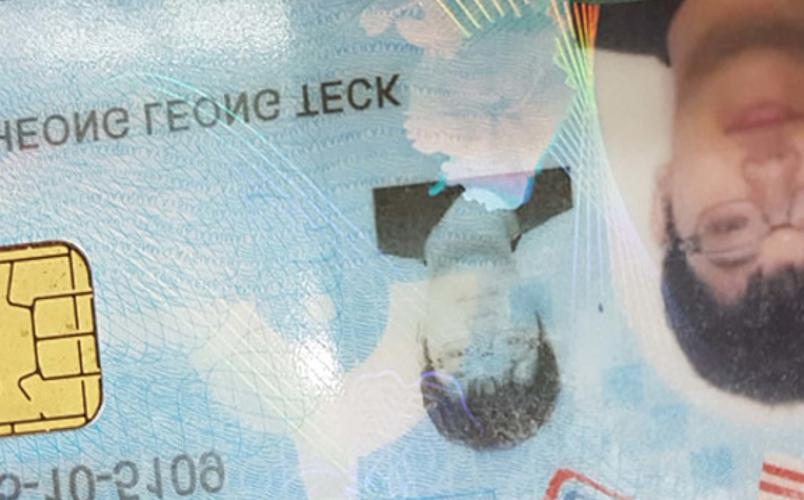hologramB: (408, 3, 591, 167)
